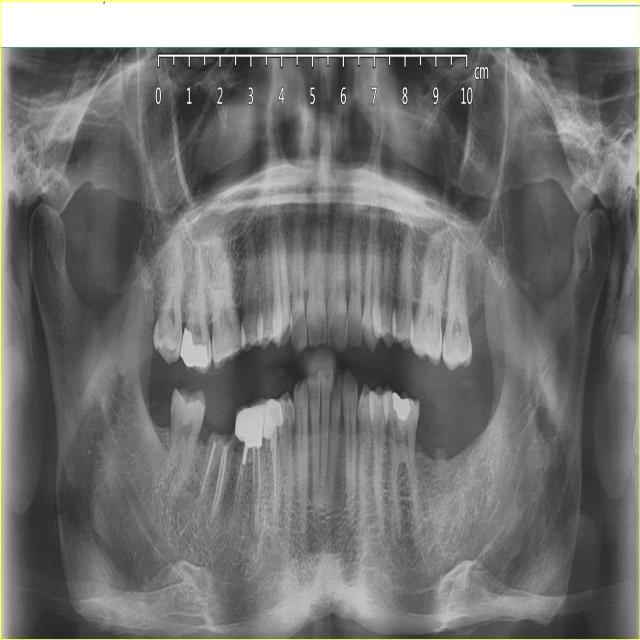Crown: (235, 399, 270, 442), (262, 398, 284, 440)
Filling: (179, 328, 207, 367), (392, 392, 410, 421)
Missing teeth: (442, 382, 489, 455)
Periapical lesion: (393, 521, 415, 551), (184, 475, 212, 497), (161, 488, 184, 509), (205, 514, 218, 528)
Root Canal Treatment: (270, 427, 277, 515), (235, 457, 243, 507), (257, 448, 261, 514), (239, 468, 245, 504), (253, 446, 255, 488)
Root Piece: (200, 434, 234, 524), (435, 448, 448, 477)
